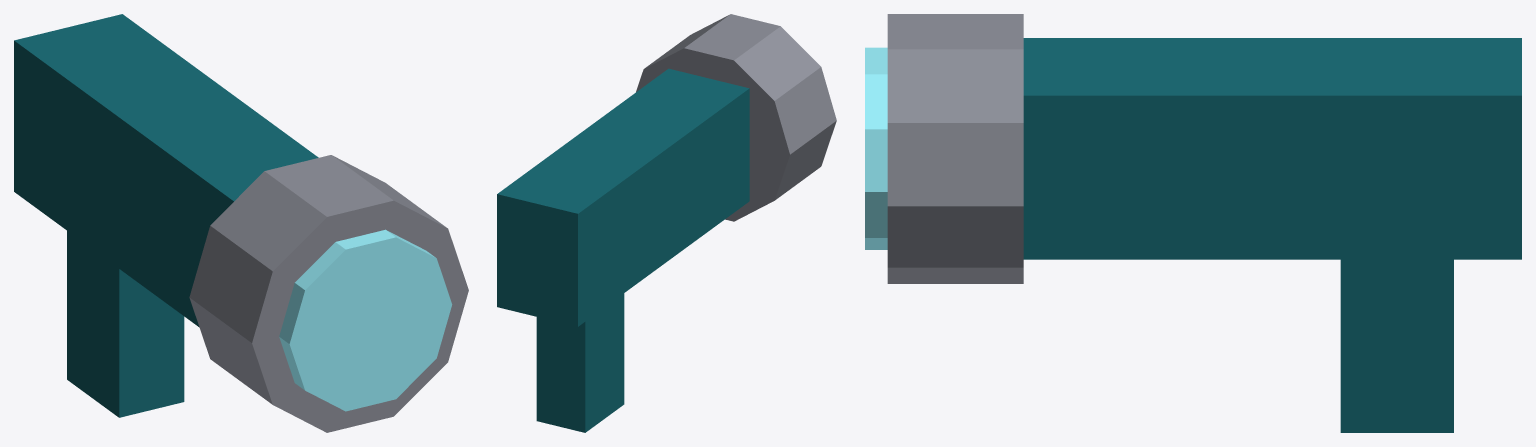
File: item_F2_PurgeEmitter.obj
3 views of the same model, side by side, from view 1: azimuth 30°, elevation 25°; view 2: azimuth 150°, elevation 25°; view 3: azimuth 270°, elevation 25° (orthographic). The views are drawn at different scales.
Visible parts, largest first — view 1: Item_F2_PurgeEmitter, Item_F2_PurgeEmitter_Dish, Item_F2_PurgeEmitter_Field; view 2: Item_F2_PurgeEmitter, Item_F2_PurgeEmitter_Dish; view 3: Item_F2_PurgeEmitter, Item_F2_PurgeEmitter_Dish, Item_F2_PurgeEmitter_Field.
Part boxes in pixels (<box>): Item_F2_PurgeEmitter: <box>14,14,318,417</box>; Item_F2_PurgeEmitter_Dish: <box>189,155,468,432</box>; Item_F2_PurgeEmitter_Field: <box>279,229,452,411</box>; Item_F2_PurgeEmitter: <box>497,68,749,432</box>; Item_F2_PurgeEmitter_Dish: <box>636,14,836,221</box>; Item_F2_PurgeEmitter: <box>1023,38,1521,432</box>; Item_F2_PurgeEmitter_Dish: <box>887,14,1023,283</box>; Item_F2_PurgeEmitter_Field: <box>865,47,887,249</box>.
Bounding box in the file's own units: 0.12 × 0.1871 × 0.29.
